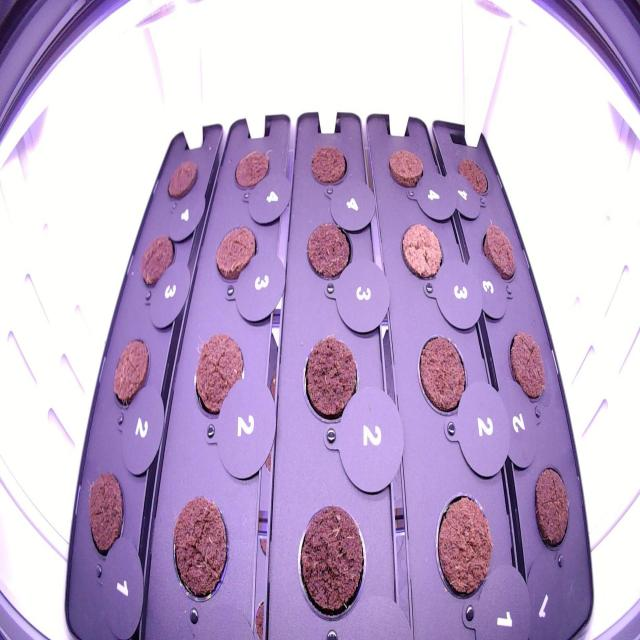pod: (290, 498, 369, 623), (165, 486, 234, 612), (427, 484, 497, 606), (294, 328, 363, 432), (188, 327, 248, 423), (412, 326, 471, 423), (80, 468, 129, 569), (298, 209, 358, 291), (526, 458, 575, 556), (500, 321, 550, 409), (394, 216, 446, 289), (109, 332, 153, 414), (210, 218, 260, 290), (474, 218, 521, 288), (134, 224, 178, 296), (304, 139, 351, 197), (382, 140, 427, 196), (450, 150, 495, 206), (160, 152, 202, 208), (230, 140, 273, 194)
